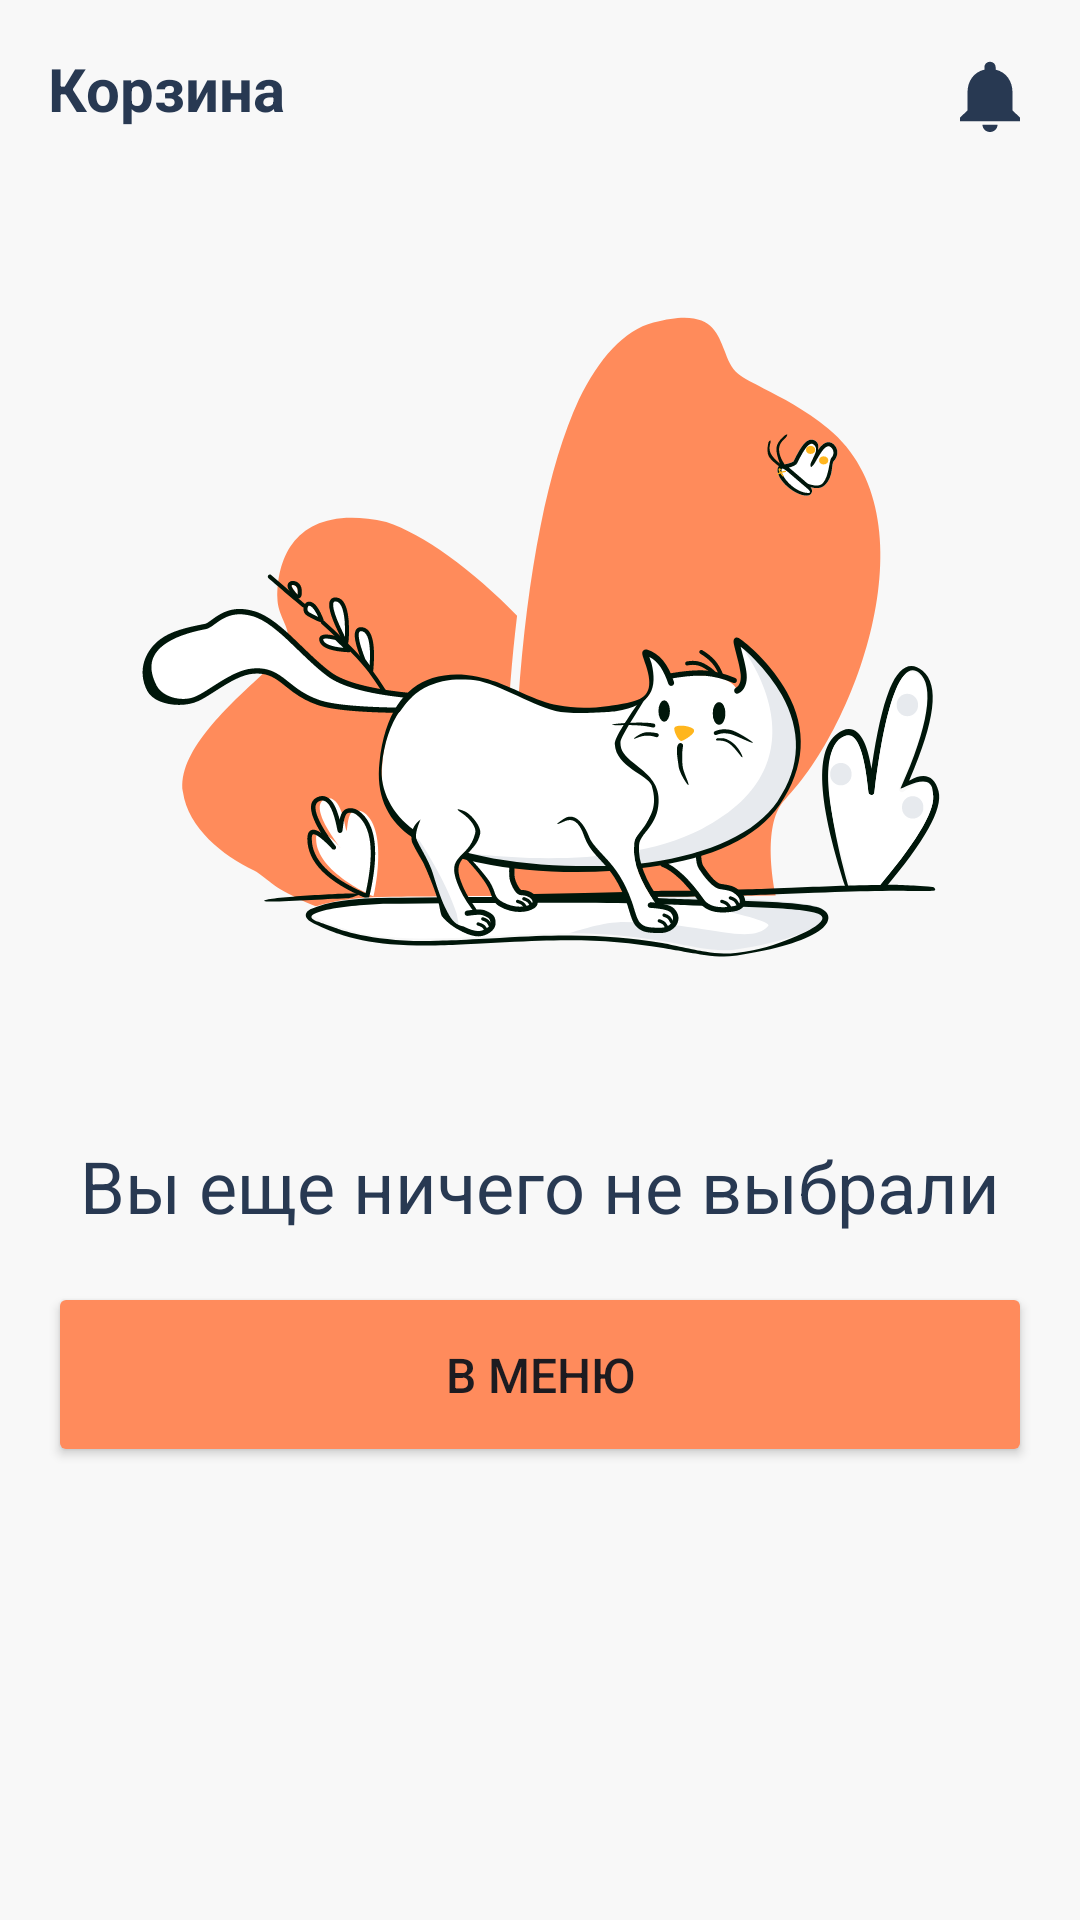

Named icons in this screenshot (1080x1920) and their bounding boxes, bbox=(x1, y1, x2, y2):
notification: bbox=(960, 61, 1020, 132)
